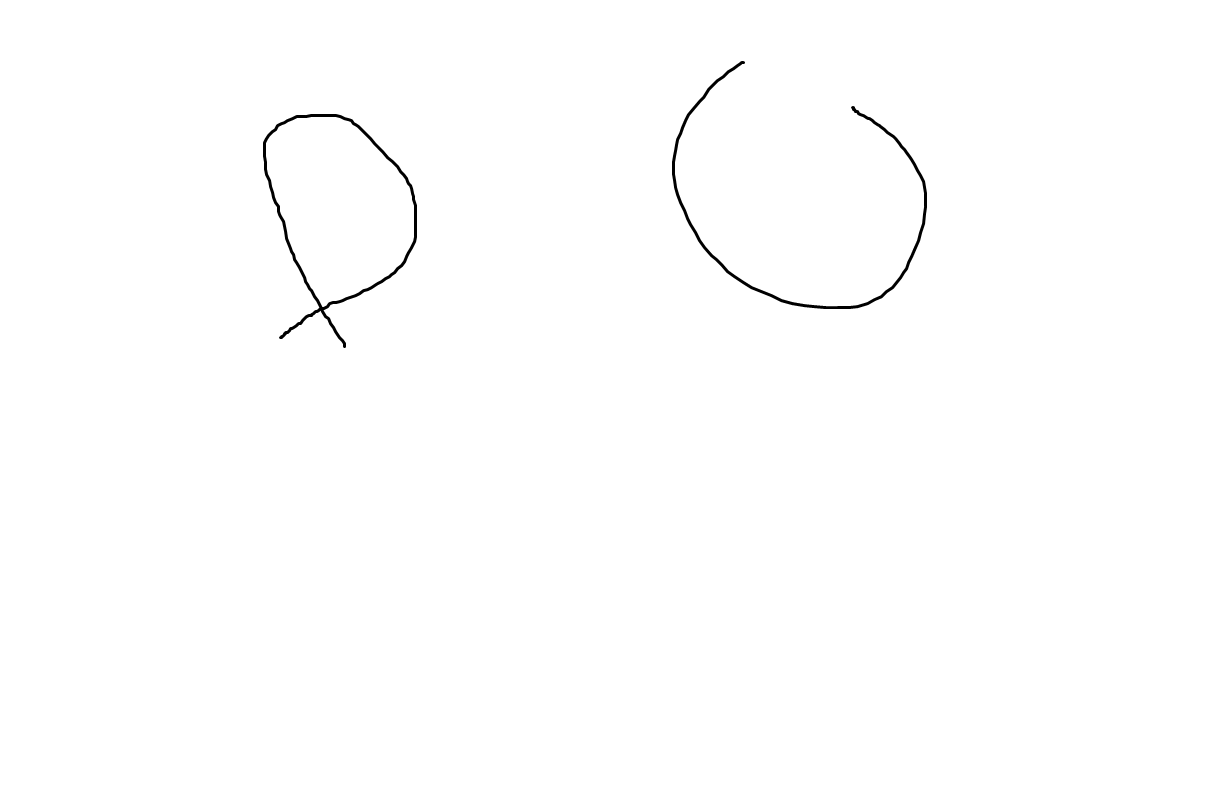tube: (674, 53, 937, 331), (231, 91, 431, 364)
